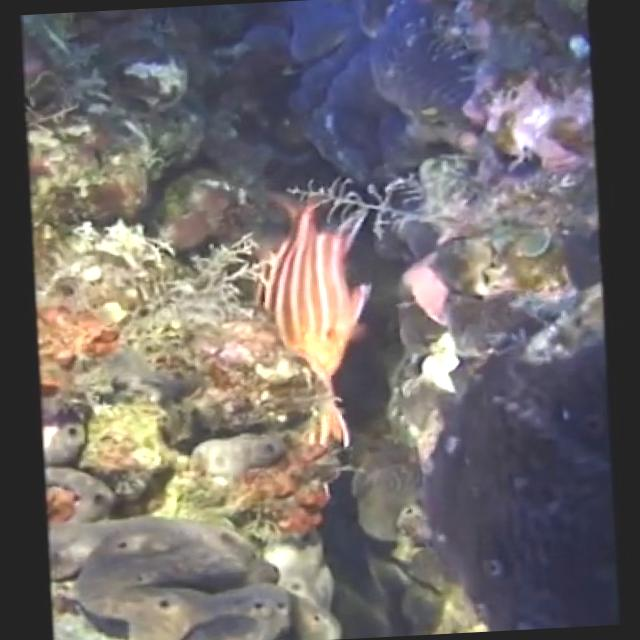Asker Baligi: (250, 193, 382, 455)
